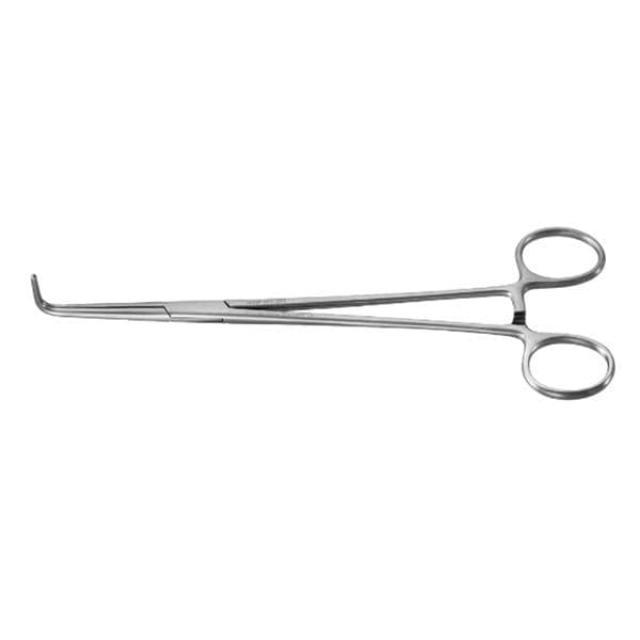Rectangle Cholecystectomy Forceps: (20, 221, 616, 412)
